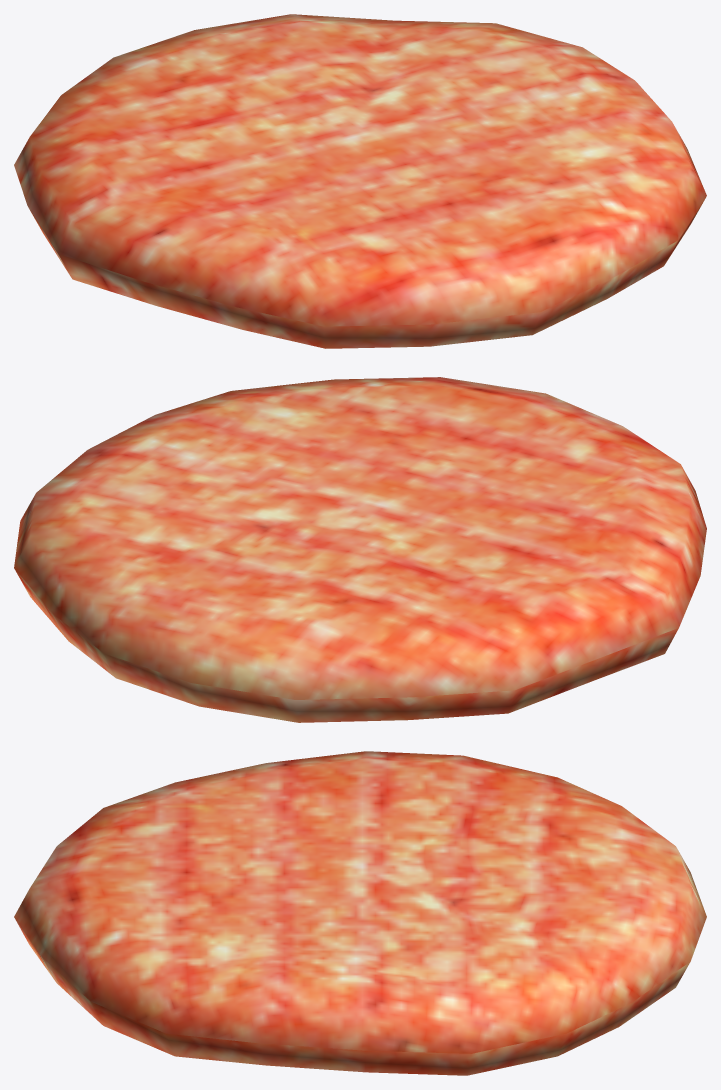
The model's file is chopped_steak (2).FBX.
3 views of the same model, one above another, from view 1: azimuth 30°, elevation 25°; view 2: azimuth 150°, elevation 25°; view 3: azimuth 270°, elevation 25° (orthographic). The views are drawn at different scales.
Visible parts, largest first — view 1: chopped_steak__LOD00; view 2: chopped_steak__LOD00; view 3: chopped_steak__LOD00.
Part boxes in pixels (x1=…): chopped_steak__LOD00: x1=14, y1=14, x2=706, y2=348; chopped_steak__LOD00: x1=14, y1=377, x2=706, y2=722; chopped_steak__LOD00: x1=14, y1=751, x2=706, y2=1075.
Size of what is drawn, in the model's own units: 13.44 by 2.06 by 13.97.
